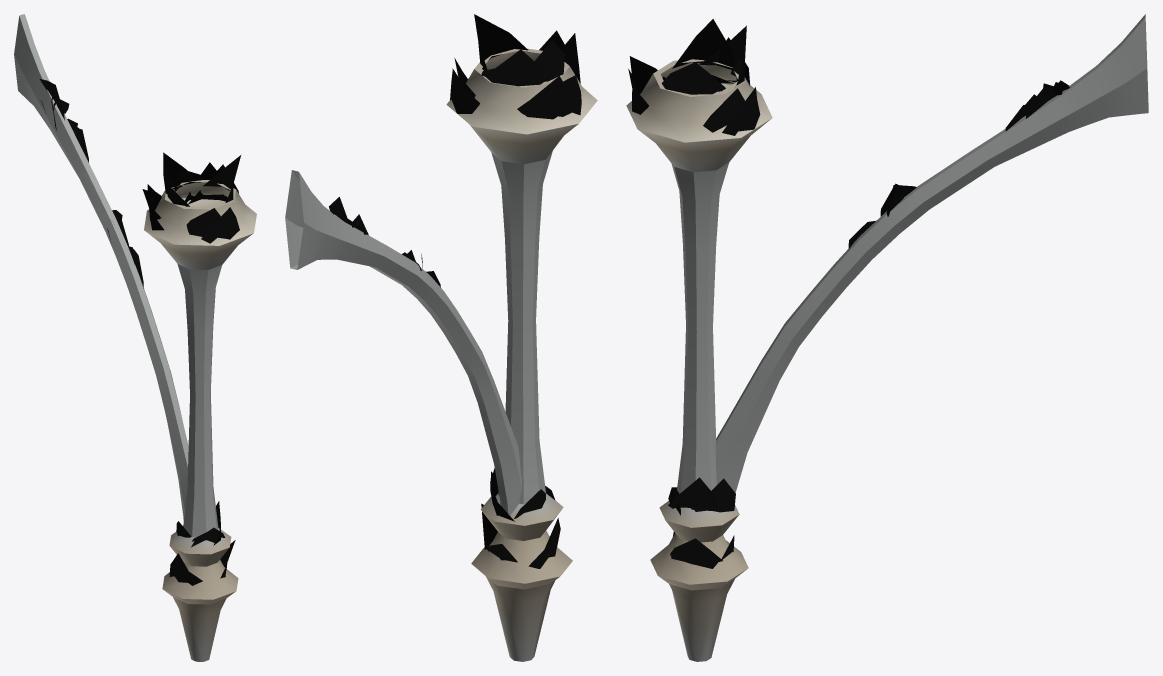
3 views of the same model, side by side, from view 1: azimuth 30°, elevation 25°; view 2: azimuth 150°, elevation 25°; view 3: azimuth 270°, elevation 25° (orthographic). The views are drawn at different scales.
Visible parts, largest first — view 1: G:\FFXIV-MapTools\exports\n4f4\bg\ex3\01_nvt_n4\fld\n4f4\bgp (×8); view 2: G:\FFXIV-MapTools\exports\n4f4\bg\ex3\01_nvt_n4\fld\n4f4\bgp (×8); view 3: G:\FFXIV-MapTools\exports\n4f4\bg\ex3\01_nvt_n4\fld\n4f4\bgp (×8).
Part boxes in pixels (x1,y1,x2,y2): G:\FFXIV-MapTools\exports\n4f4\bg\ex3\01_nvt_n4\fld\n4f4\bgp (×8): [14, 14, 256, 661]; G:\FFXIV-MapTools\exports\n4f4\bg\ex3\01_nvt_n4\fld\n4f4\bgp (×8): [285, 14, 597, 661]; G:\FFXIV-MapTools\exports\n4f4\bg\ex3\01_nvt_n4\fld\n4f4\bgp (×8): [626, 14, 1148, 661].
Size of the model in its own units: 11.59 by 56.02 by 41.36.
